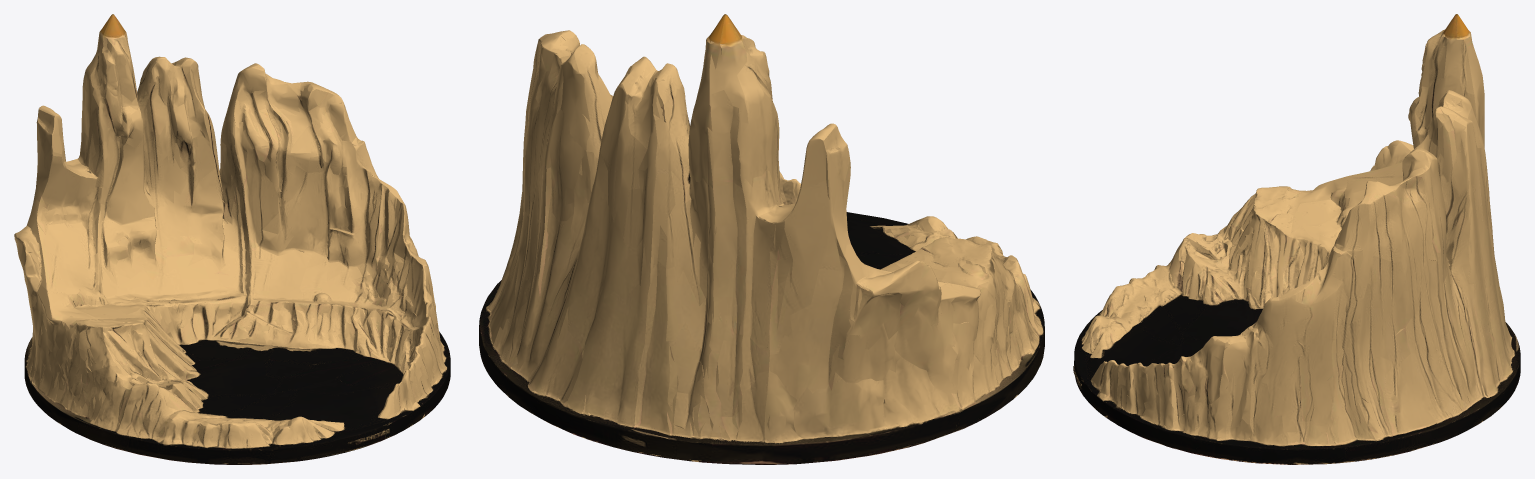
The model's file is torres_del_paine.glb.
The picture shows the model from 3 angles, left to right: view 1: azimuth 30°, elevation 25°; view 2: azimuth 150°, elevation 25°; view 3: azimuth 270°, elevation 25°; orthographic projection. The views are drawn at different scales.
Size of the model in its own units: 1.89 by 1.56 by 1.9.
1 material, 1 textured.
